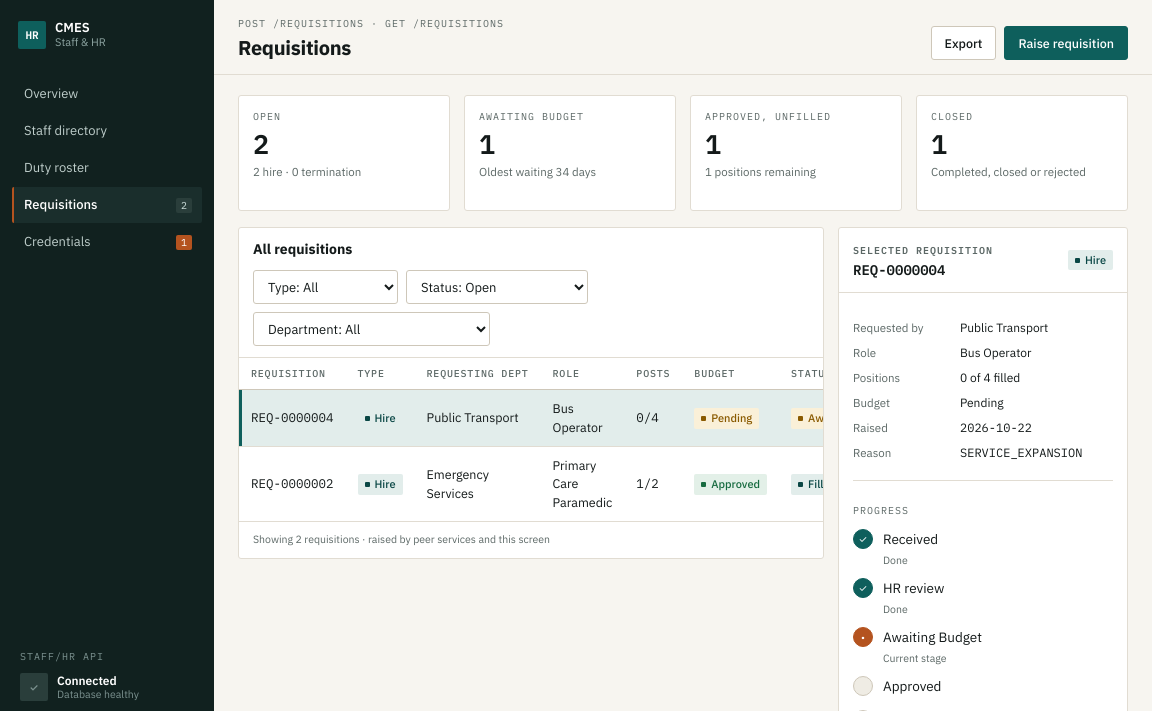
Scenario: CMES Staff & HR frontend › raises a hire requisition and reuses its idempotency key on retry
Click the button "Raise requisition". click: (1066,43)
box: [1004,26,1128,60]
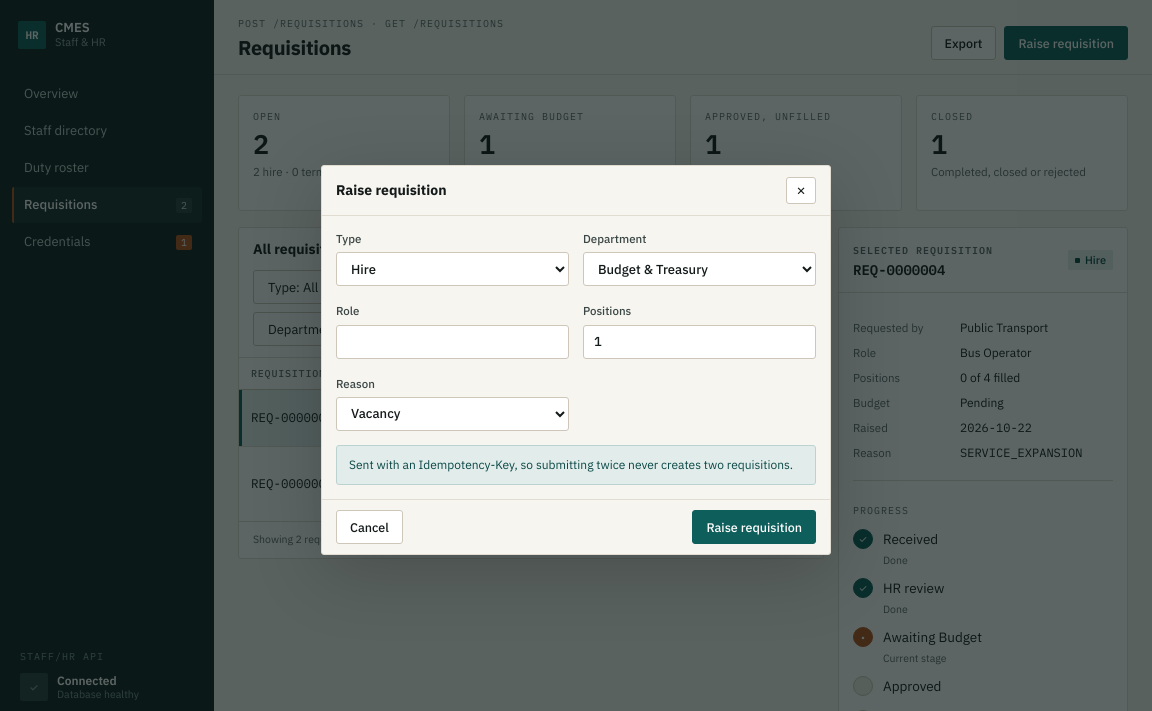
Select "Emergency Services" in the dropdown named "Requesting department". click: (700,269)
box: [583,252,816,286]
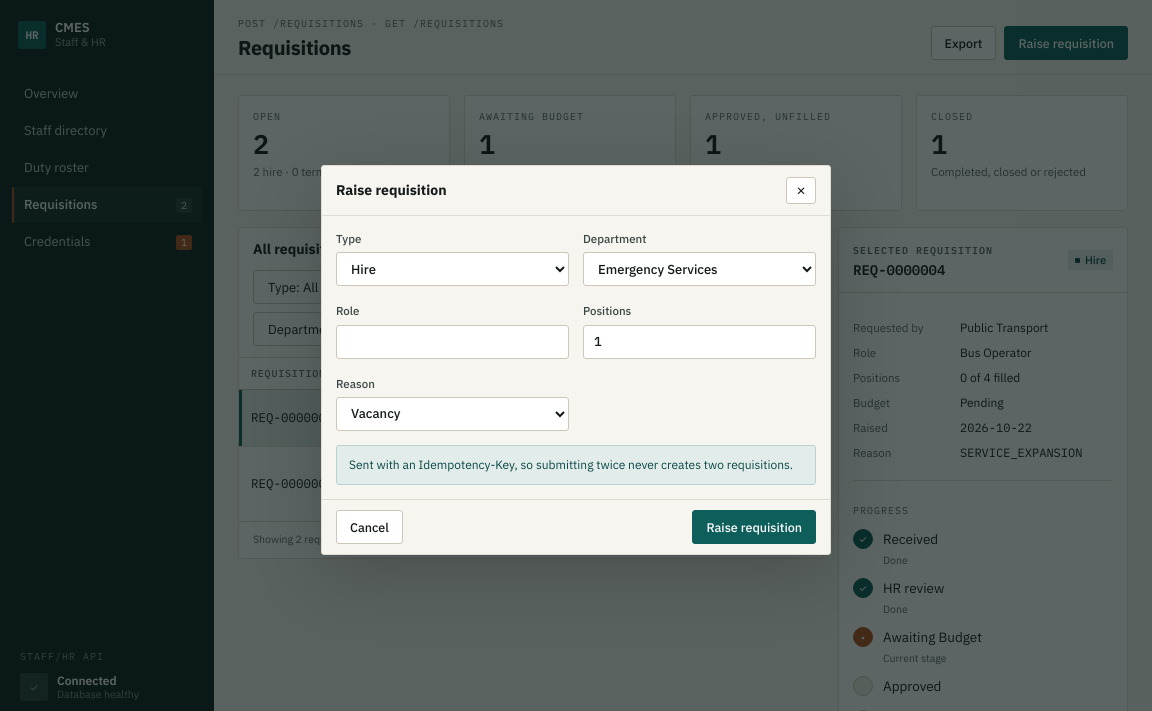
Type "Paramedic" into the field labelled "Role". click: (452,342)
box: [336,325,569,359]
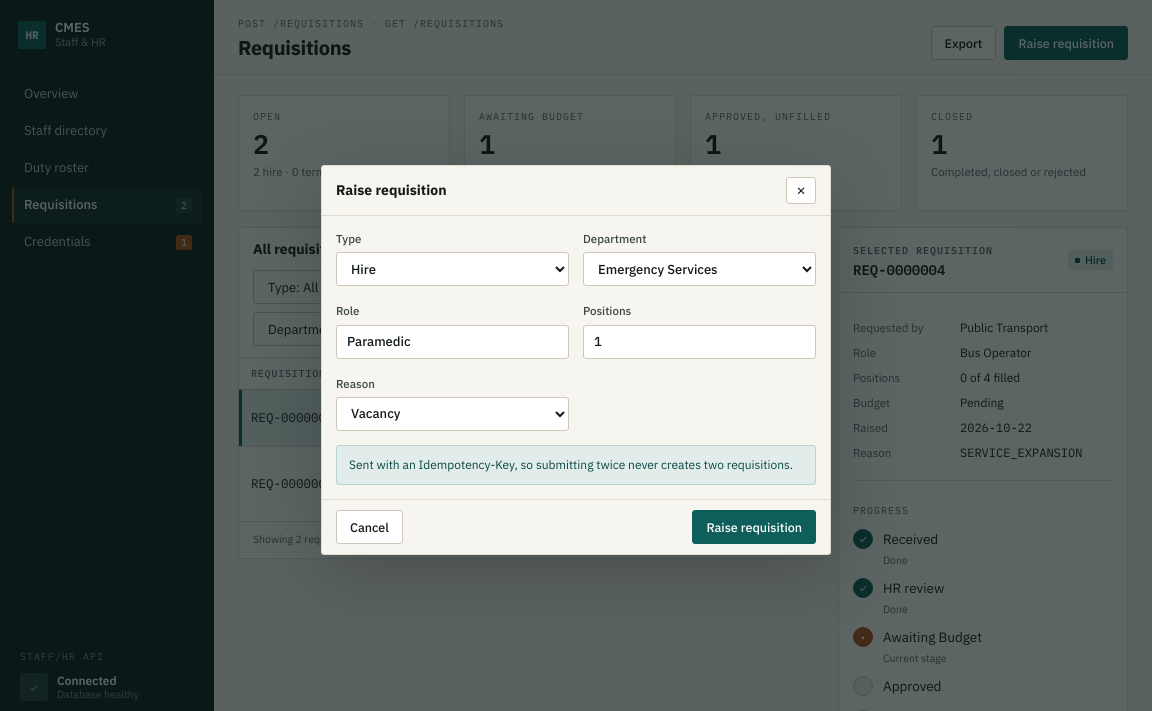
Replace the text in the number field labelled "Positions" with "3". click: (700,342)
box: [583,325,816,359]
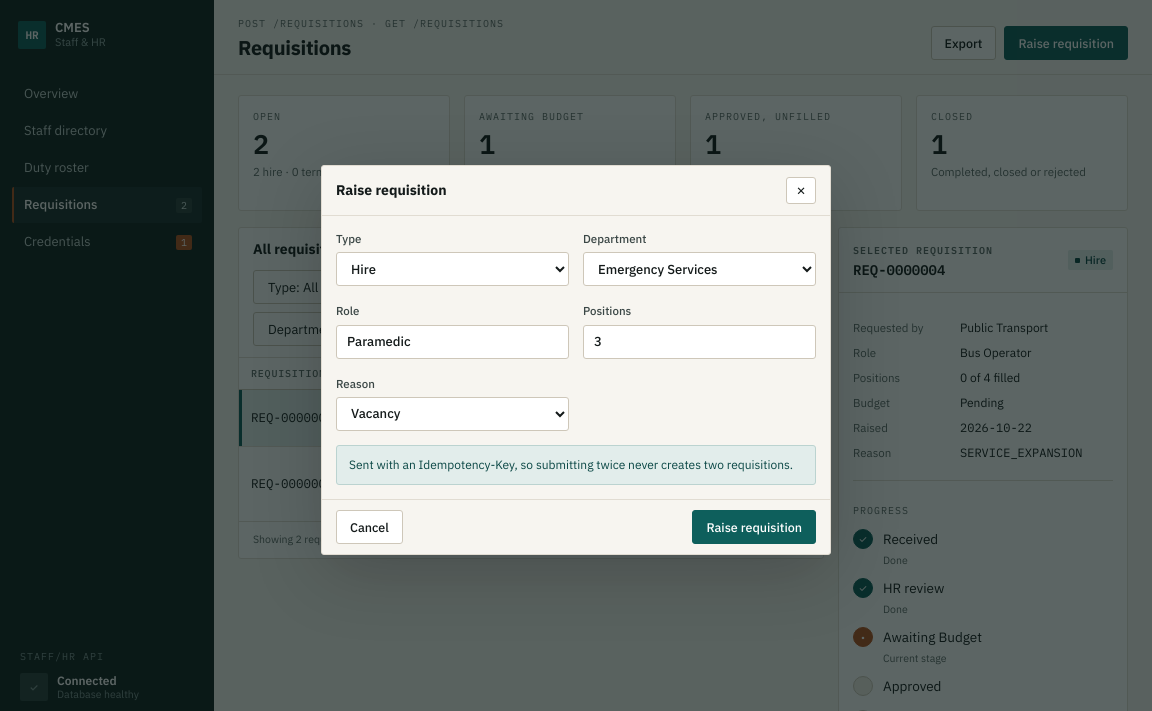
Click the button "Raise requisition". click: (754,527)
box: [692,510,816,544]
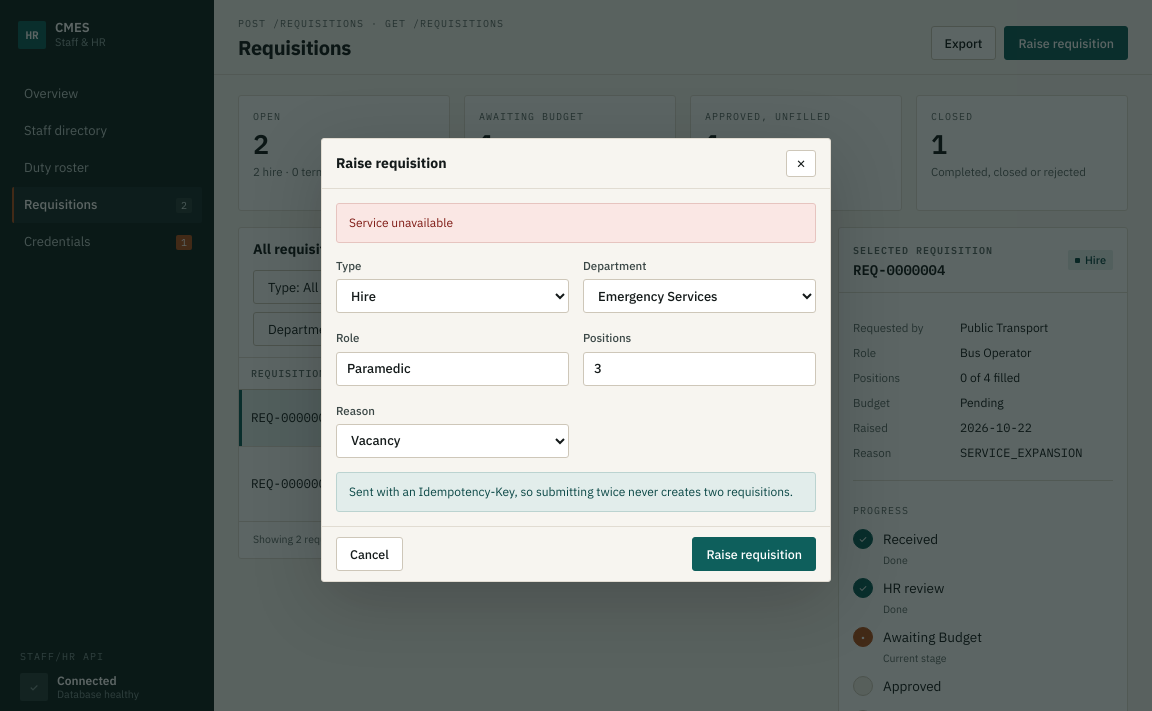
Check: the text "Service unavailable" is shown, box [349,214,453,232]
Click the button "Raise requisition". click: (754,554)
box: [692,537,816,571]
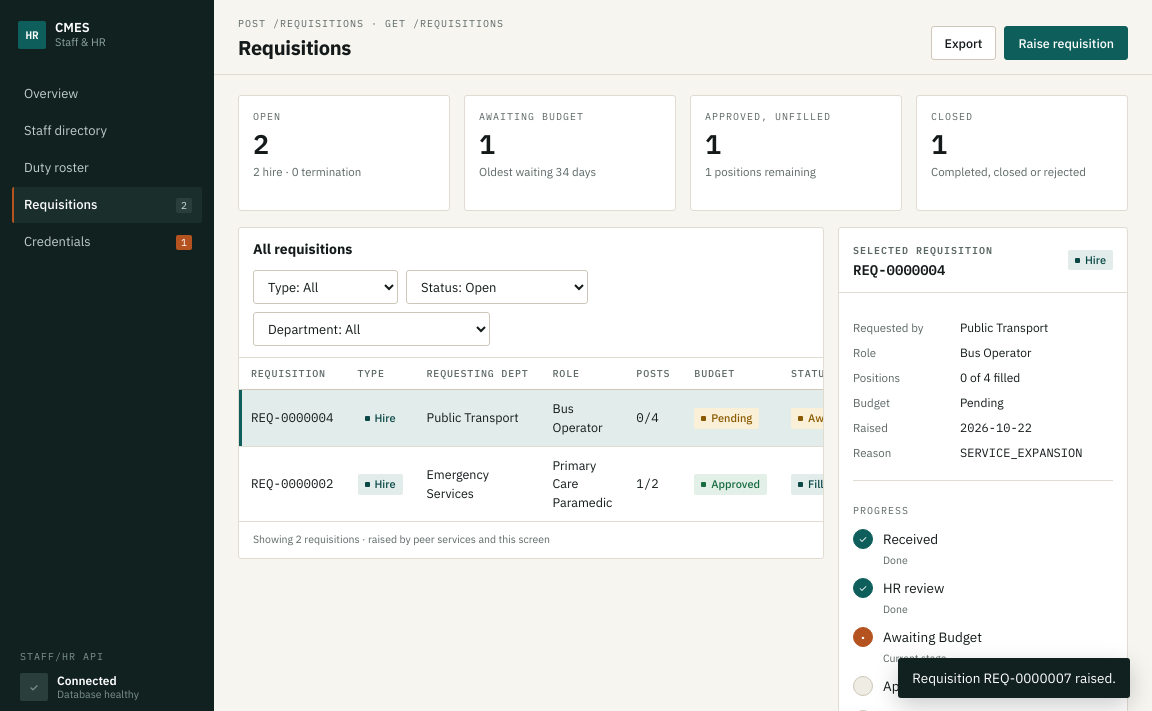
Check: the text "Requisition REQ-0000007 raised." is shown, box [898,658,1130,698]
